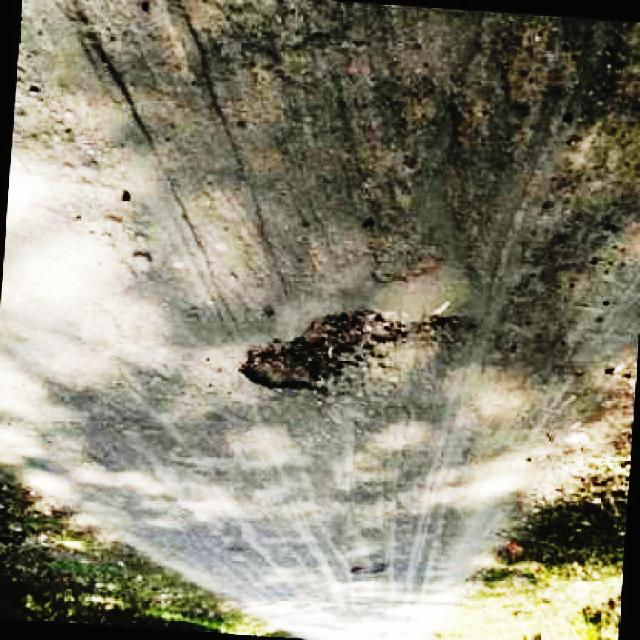pothole: (242, 308, 408, 397)
